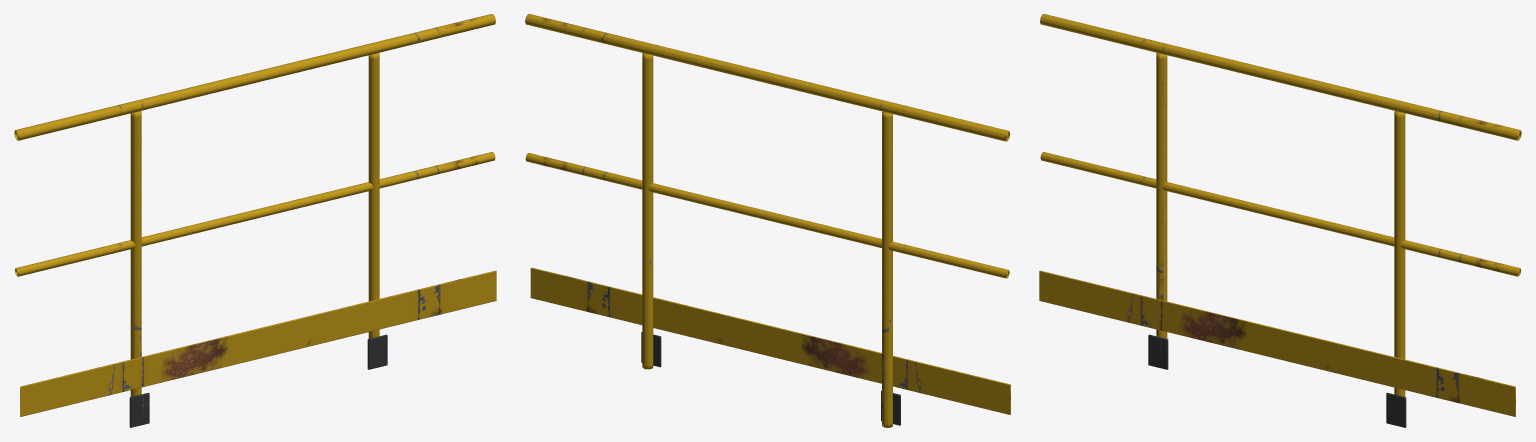
Rendered from SM_IK_Railing_200_LOD1.fbx.
The picture shows the model from 3 angles, left to right: view 1: azimuth 30°, elevation 25°; view 2: azimuth 150°, elevation 25°; view 3: azimuth 330°, elevation 25°; orthographic projection.
Parts seen in each view (by area): view 1: SM_IK_Railing_200_LOD1; view 2: SM_IK_Railing_200_LOD1; view 3: SM_IK_Railing_200_LOD1.
Boxes of the visible parts, bbox=[...] form: SM_IK_Railing_200_LOD1: bbox=[14, 14, 496, 427]; SM_IK_Railing_200_LOD1: bbox=[525, 14, 1010, 427]; SM_IK_Railing_200_LOD1: bbox=[1039, 14, 1521, 427].
Size of the model in its own units: 200 by 5 by 129.
